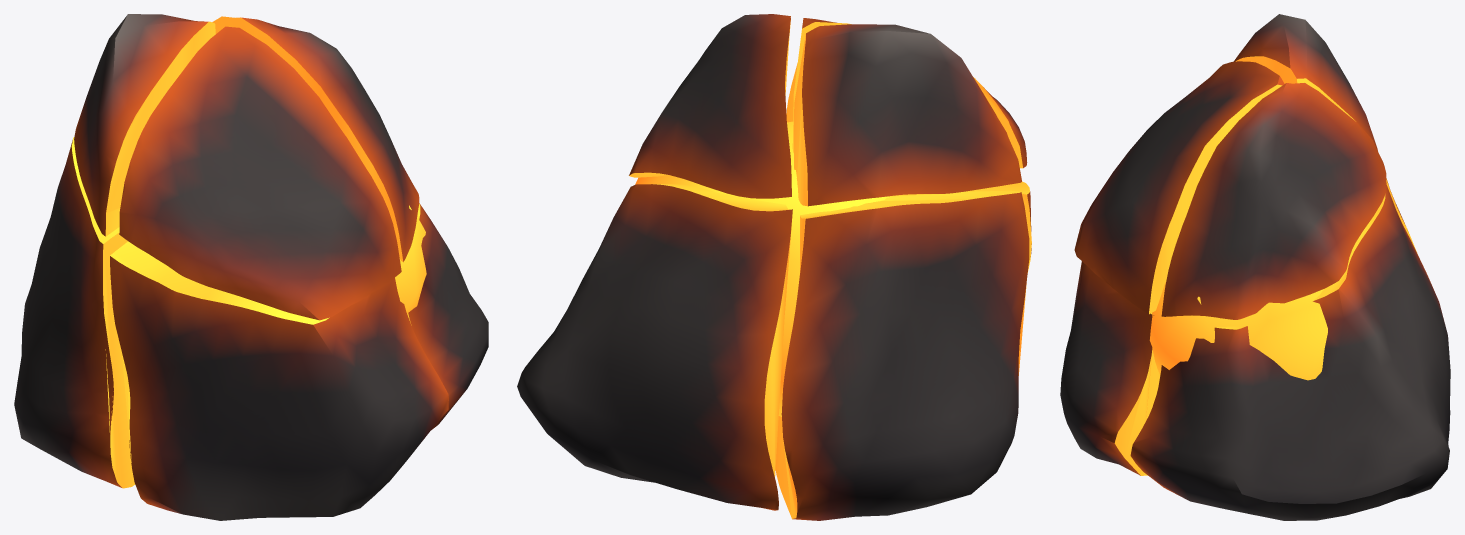
The model's file is rock_lava.glb.
The picture shows the model from 3 angles, left to right: view 1: azimuth 30°, elevation 25°; view 2: azimuth 150°, elevation 25°; view 3: azimuth 270°, elevation 25°; orthographic projection. The views are drawn at different scales.
Parts seen in each view (by area): view 1: rock_lava; view 2: rock_lava; view 3: rock_lava.
Boxes of the visible parts, bbox=[...] form: rock_lava: bbox=[14, 14, 488, 520]; rock_lava: bbox=[517, 14, 1031, 520]; rock_lava: bbox=[1060, 14, 1450, 520].
Bounding box in the file's own units: 2.19 × 2.16 × 1.95.
